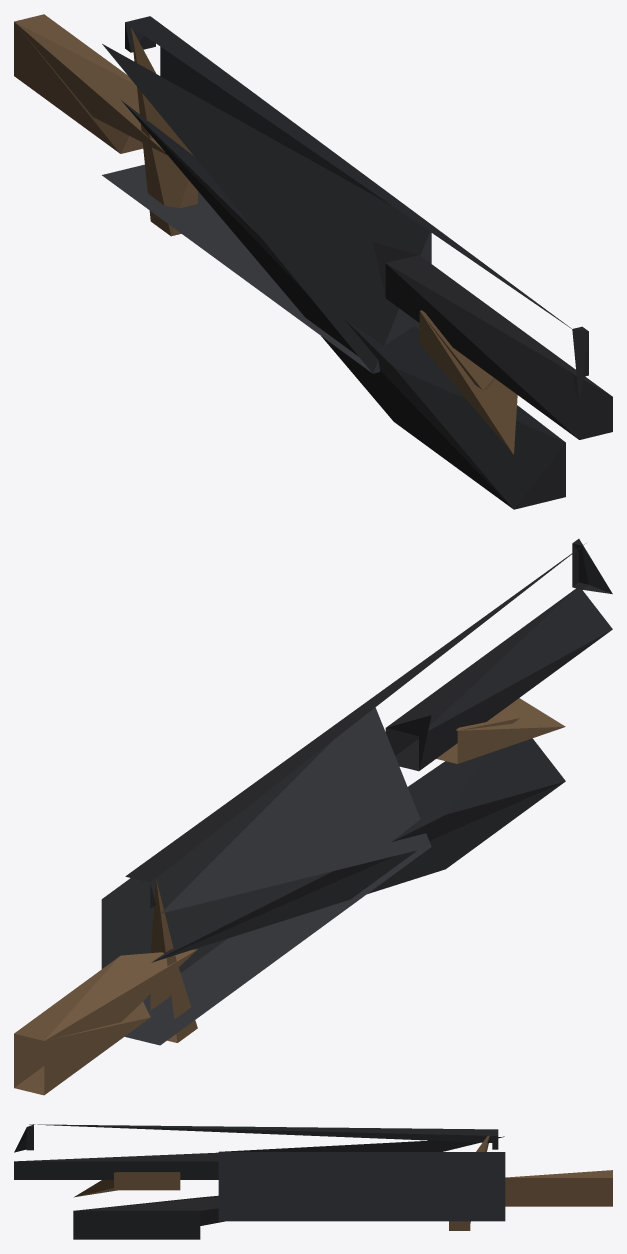
File: chinalake.obj
3 views of the same model, one above another, from view 1: azimuth 30°, elevation 25°; view 2: azimuth 150°, elevation 25°; view 3: azimuth 270°, elevation 25° (orthographic). The views are drawn at different scales.
Size of the model in its own units: 0.07 by 0.231 by 1.17.
